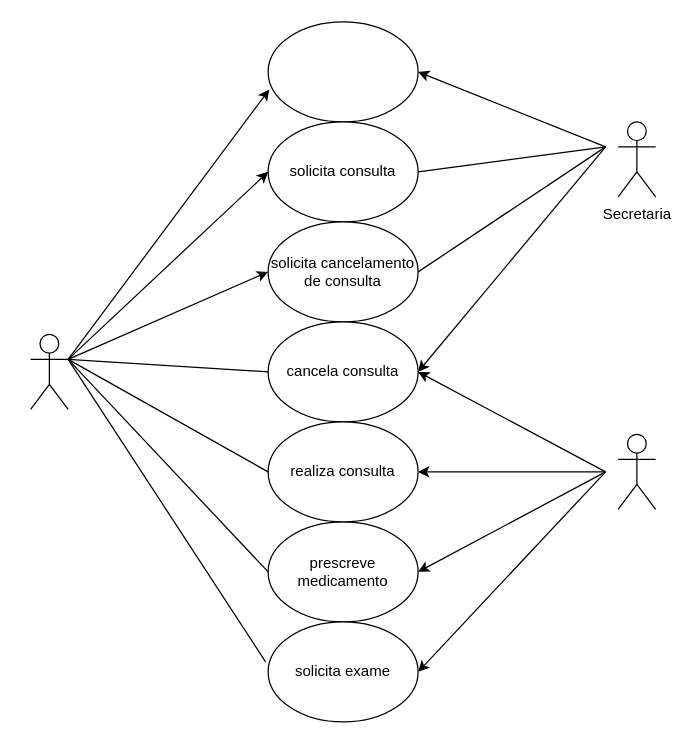
Image size: 693x744. Some labels were removed from this diagram. The shapes that lost their labels are listed below. From the top down, each one's centre as x and y in pixels, then its label:
At point (342, 71): "marca consulta".
At point (48, 371): "paciente".
At point (636, 471): "médico".
